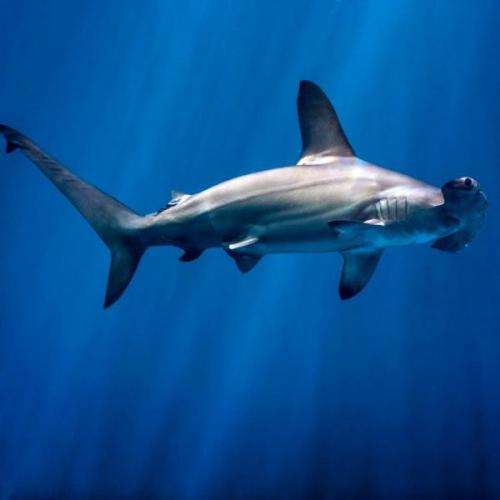shark-endangered: (0, 81, 492, 310)
